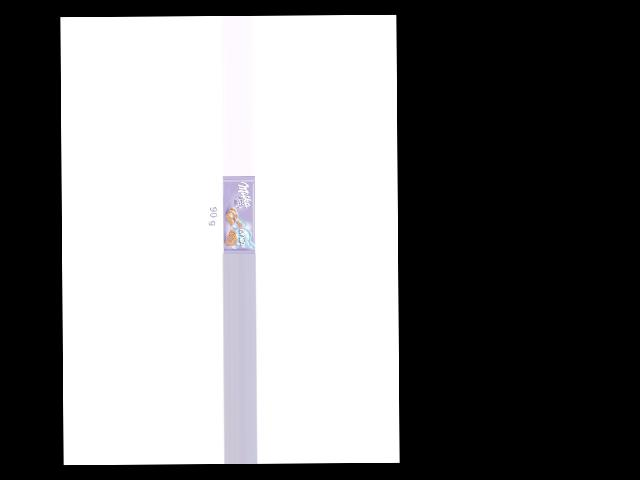chocolate: (222, 177, 255, 254)
